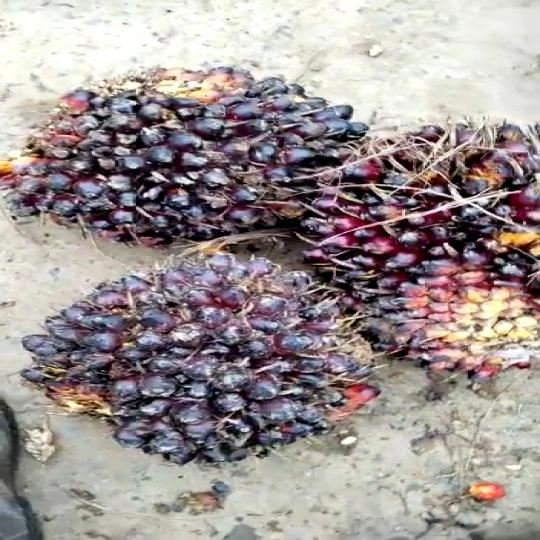kurang masak: (29, 248, 382, 478), (297, 113, 540, 382), (14, 61, 356, 240)
